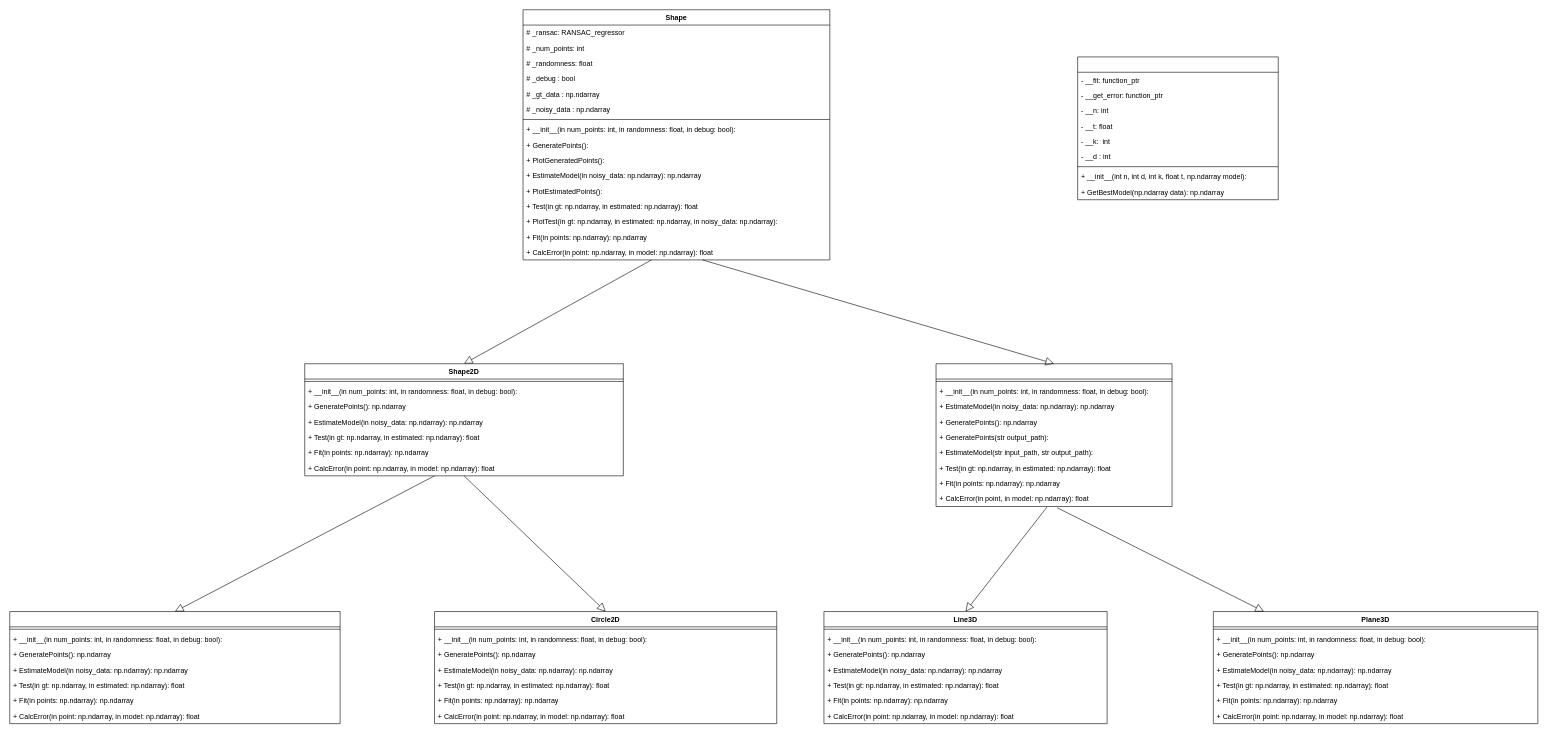
Some shapes in this 1548 by 733 pixel diagram are drawn without their labels. The box of each missing label's shape, as (x1, y1, x2, y2) in pixels:
Line2D: (9, 611, 340, 724)
RANSAC_regressor: (1077, 56, 1278, 200)
Shape3D: (935, 363, 1172, 507)
